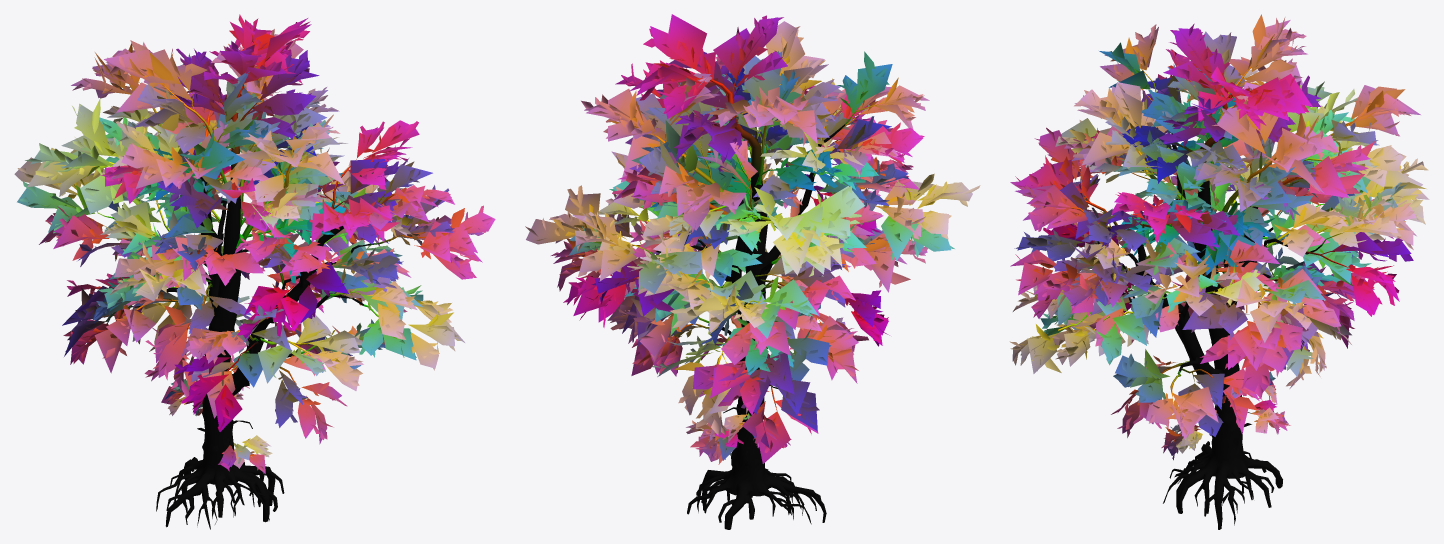
The model's file is SM_EuropeanBeech_XL_02.fbx.
3 renders of one model, left to right at view 1: azimuth 30°, elevation 25°; view 2: azimuth 150°, elevation 25°; view 3: azimuth 270°, elevation 25°, orthographic. The views are drawn at different scales.
Visible parts, largest first — view 1: SM_EuropeanBeech_XL_02_LOD0; view 2: SM_EuropeanBeech_XL_02_LOD0; view 3: SM_EuropeanBeech_XL_02_LOD0.
Boxes of the visible parts, bbox=[...] form: SM_EuropeanBeech_XL_02_LOD0: bbox=[14, 14, 495, 529]; SM_EuropeanBeech_XL_02_LOD0: bbox=[525, 14, 980, 529]; SM_EuropeanBeech_XL_02_LOD0: bbox=[1009, 14, 1429, 529].
Bounding box in the file's own units: 1736 × 1839 × 2321.
